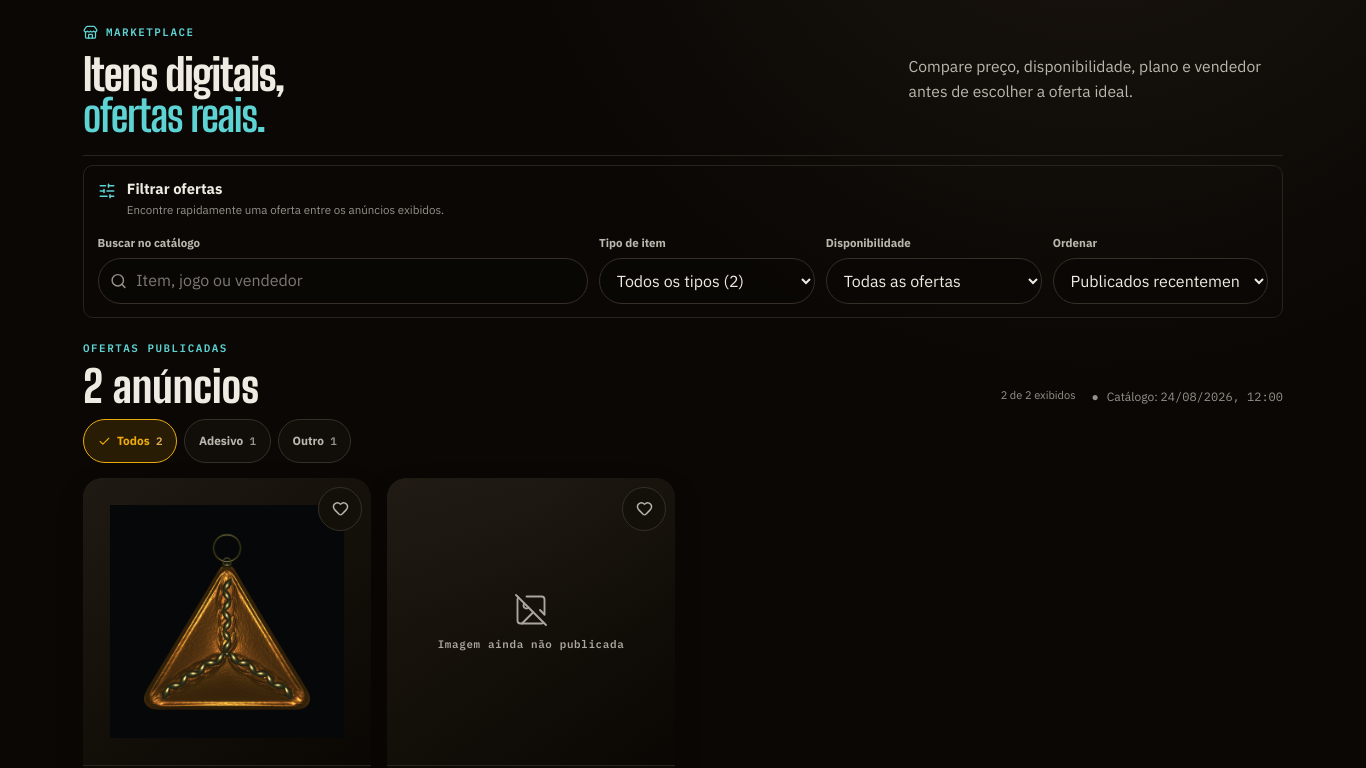
Test case: acessibilidade do marketplace › expõe chips de categoria com aria-pressed que aplicam o filtro real
Step 1. Click the button "Adesivo 1" → (227, 441), box [184,419,271,463]
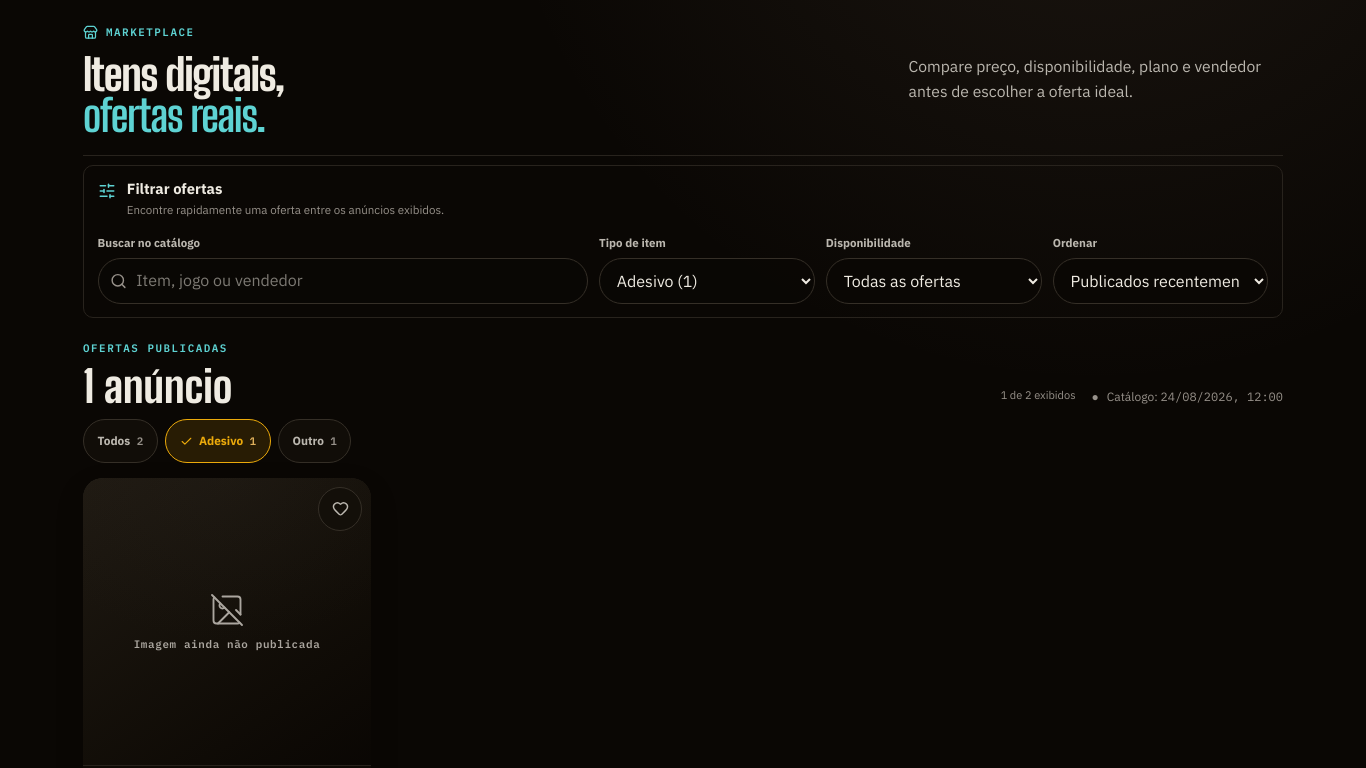
expect the text "1 de 2 exibidos" is shown: met, box [1001,387,1076,405]
expect the dropdown labelled "Tipo de item" shows "Adesivo (1)": met, box [599,258,815,304]
Step 2. Click the button "Adesivo 1" → (218, 441), box [165,419,271,463]
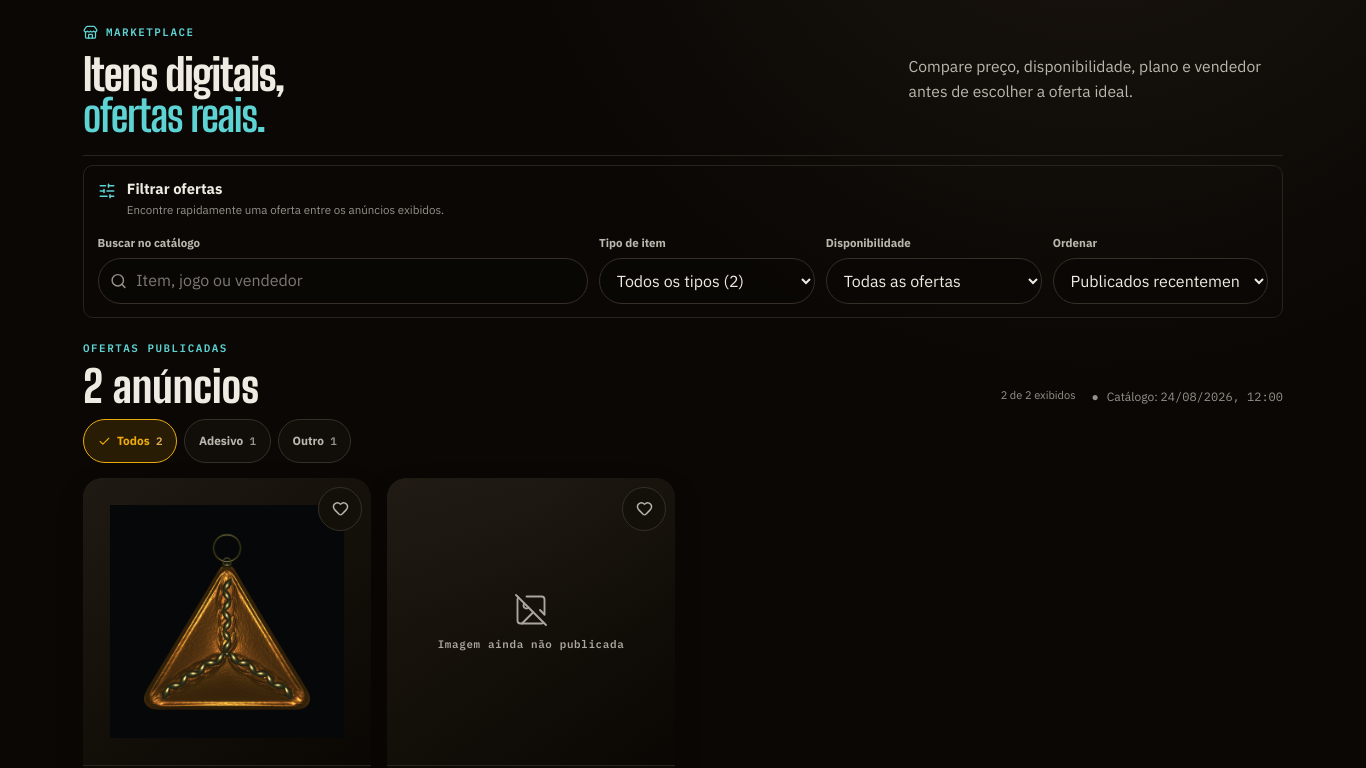
expect the text "2 de 2 exibidos" is shown: met, box [1001,387,1076,405]
